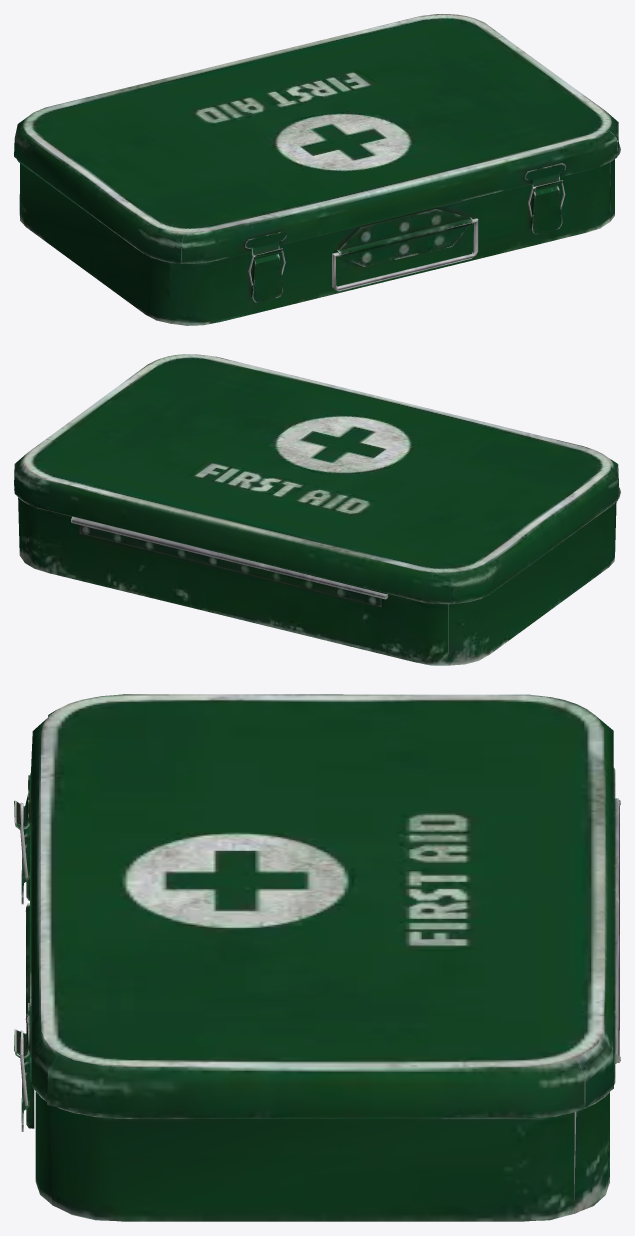
Rendered from medical_box.glb.
The picture shows the model from 3 angles, top to bottom: view 1: azimuth 30°, elevation 25°; view 2: azimuth 150°, elevation 25°; view 3: azimuth 270°, elevation 25°; orthographic projection. The views are drawn at different scales.
Visible parts, largest first — view 1: medical_box_lid, medical_box, medical_box_latch, medical_box_handle; view 2: medical_box_lid, medical_box; view 3: medical_box_lid, medical_box.
Part boxes in pixels (left/top/right/bottom): medical_box_lid: left=14, top=14, right=620, bottom=264; medical_box: left=19, top=159, right=614, bottom=325; medical_box_latch: left=251, top=185, right=562, bottom=302; medical_box_handle: left=332, top=218, right=478, bottom=291; medical_box_lid: left=14, top=354, right=620, bottom=603; medical_box: left=18, top=498, right=616, bottom=665; medical_box_lid: left=14, top=694, right=615, bottom=1118; medical_box: left=25, top=798, right=620, bottom=1221.
Bounding box in the file's own units: 0.5255 × 0.0974 × 0.3505.
1 material, 1 textured.
